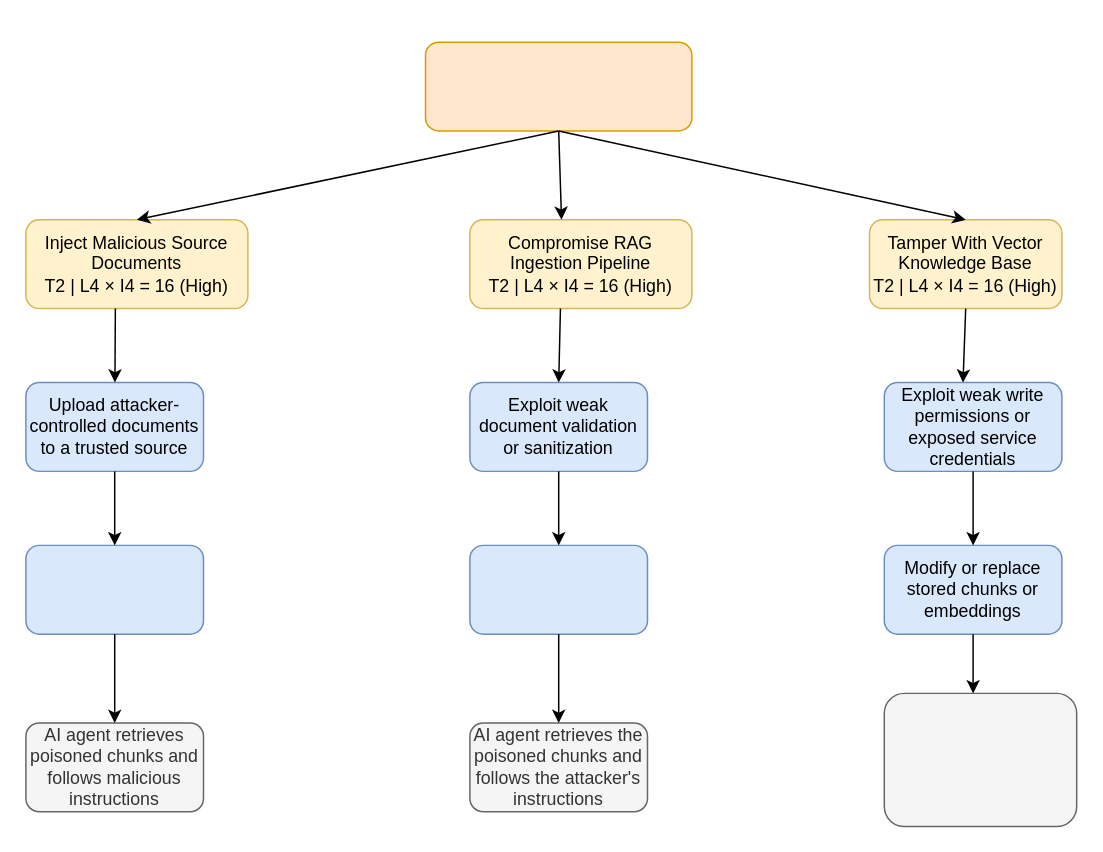
Some shapes in this 1103 by 852 pixel diagram are drawn without their labels. The centre of each missing label's shape, as x and y in pixels:
"AI agent retrieves altered knowledge and produces manipulated responses" belongs at point (980, 759).
"Insert malicious chunks during document ingestion" belongs at point (558, 589).
"Malicious content is processed and indexed into chunks" belongs at point (114, 589).
"POISON THE RAG KNOWLEDGE BASE TO MANIPULATE AI AGENT BEHAVIOUR" belongs at point (558, 86).
